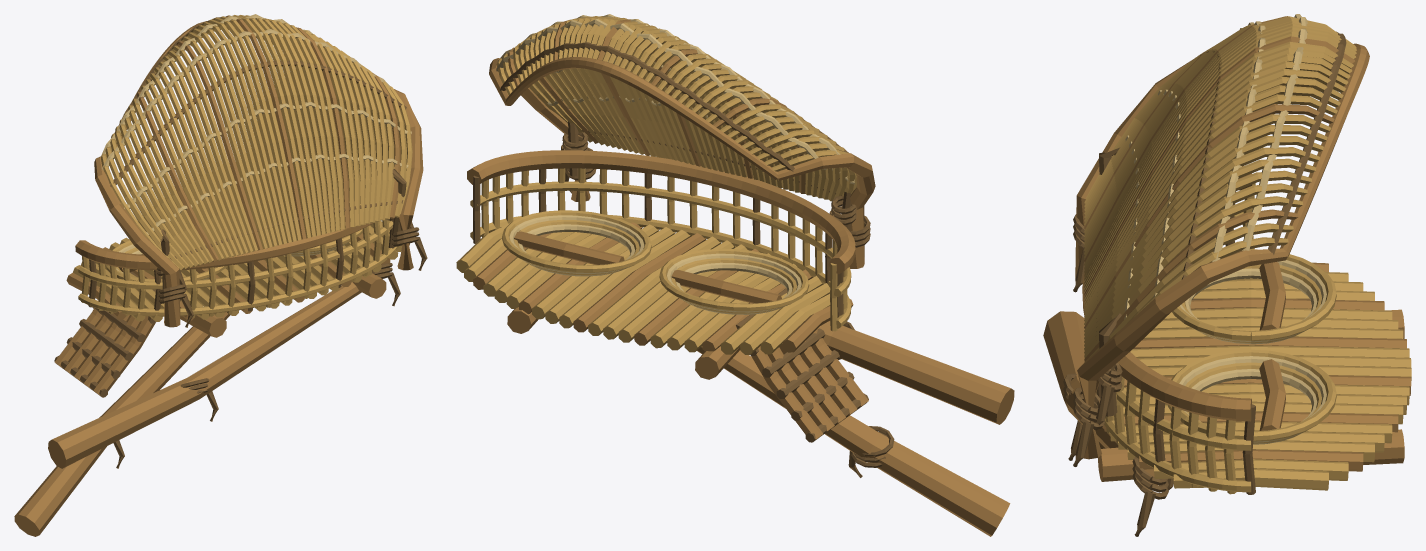
File: sleeping-deck.glb
The picture shows the model from 3 angles, left to right: view 1: azimuth 30°, elevation 25°; view 2: azimuth 150°, elevation 25°; view 3: azimuth 270°, elevation 25°; orthographic projection. The views are drawn at different scales.
Visible parts, largest first — view 1: sleeping-rainhood-weave, sleeping-deck-weave; view 2: sleeping-deck-weave, sleeping-rainhood-weave; view 3: sleeping-rainhood-weave, sleeping-deck-weave.
Part boxes in pixels (left/top/right/bottom): sleeping-rainhood-weave: left=94, top=14, right=427, bottom=327; sleeping-deck-weave: left=14, top=219, right=402, bottom=536; sleeping-deck-weave: left=456, top=150, right=1014, bottom=536; sleeping-rainhood-weave: left=489, top=14, right=875, bottom=268; sleeping-rainhood-weave: left=1073, top=14, right=1369, bottom=466; sleeping-deck-weave: left=1043, top=166, right=1411, bottom=536.
Size of the model in its own units: 3.26 by 3.07 by 1.61.
